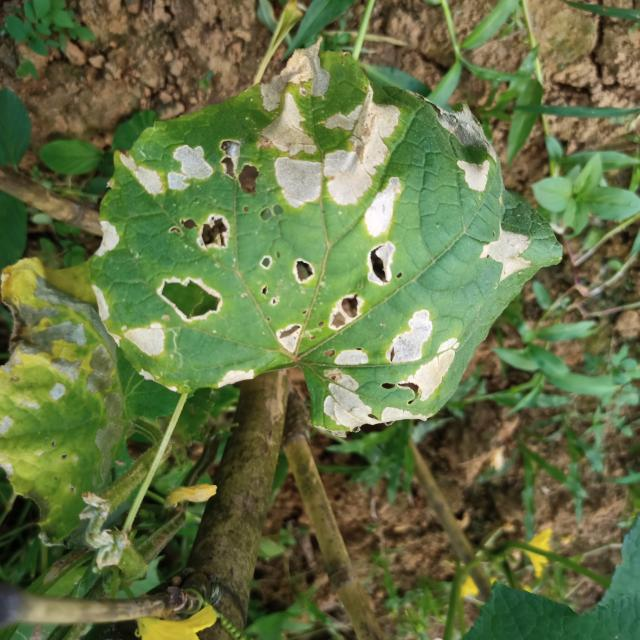disease_cucumber: (107, 49, 529, 428)
